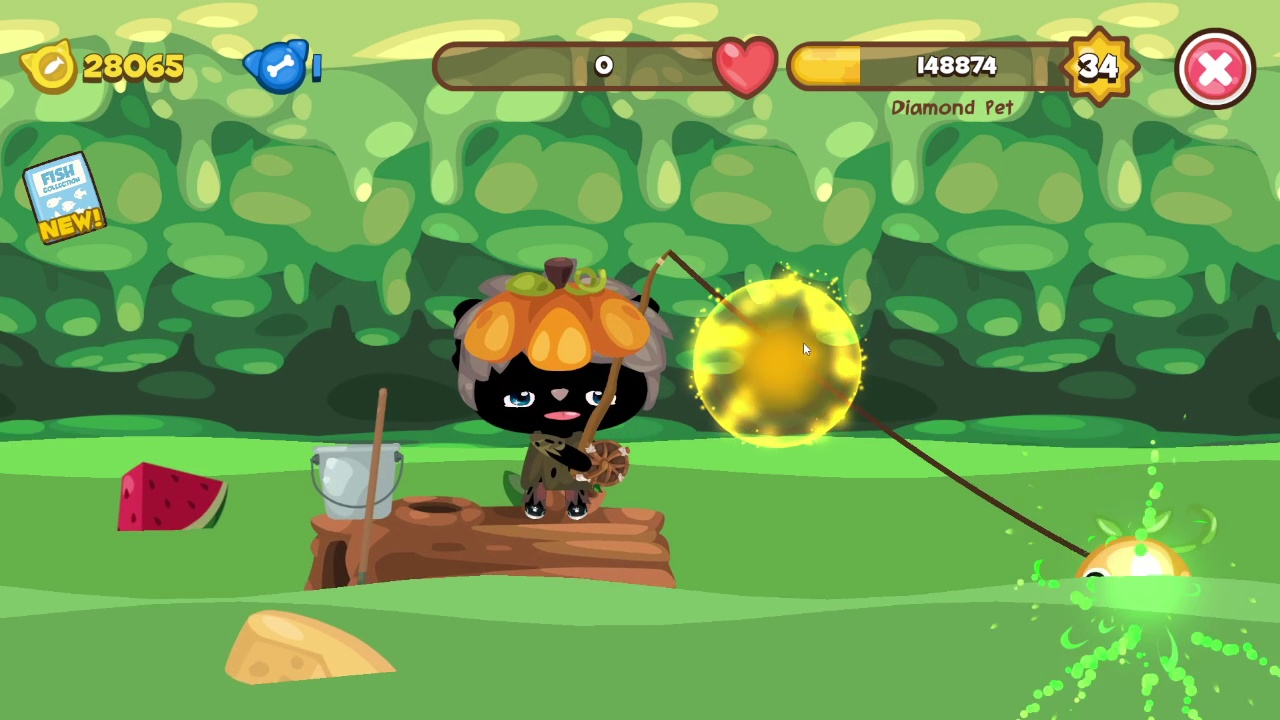point: (691, 278, 866, 450)
